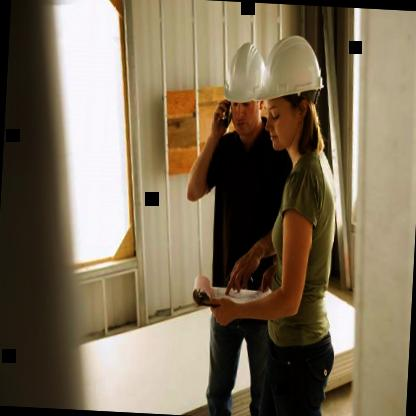helmet: (252, 33, 325, 152), (219, 39, 270, 134)
